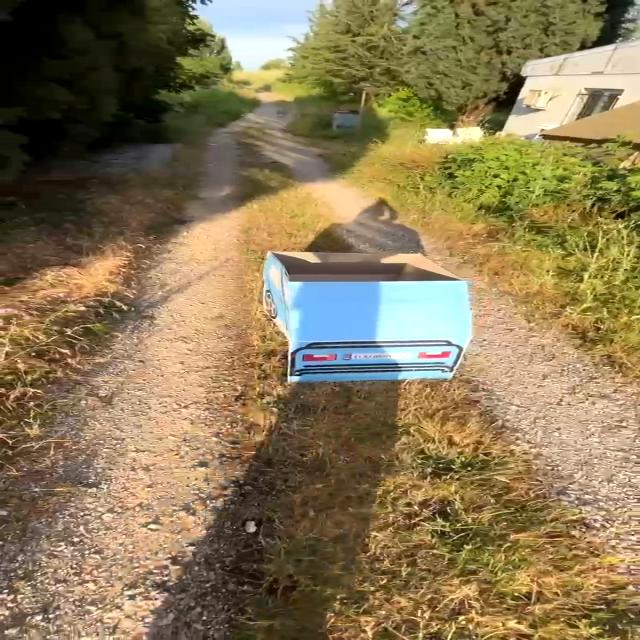blue_car: (245, 238, 493, 413)
